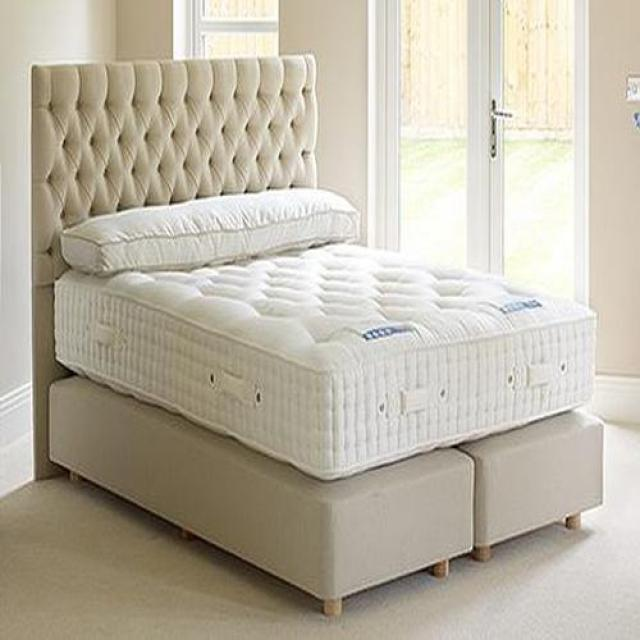bed: (29, 55, 604, 620)
